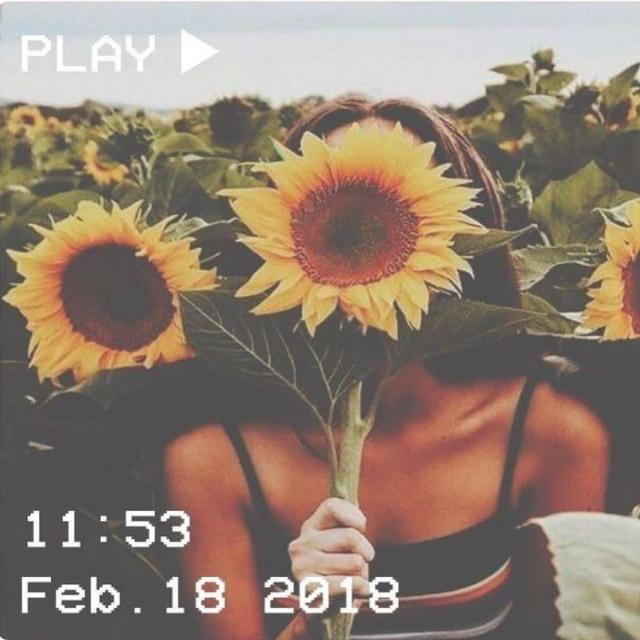sunflower: (216, 117, 488, 340), (1, 198, 218, 388), (577, 200, 639, 342), (82, 138, 128, 186), (6, 104, 45, 140), (42, 116, 60, 132)
